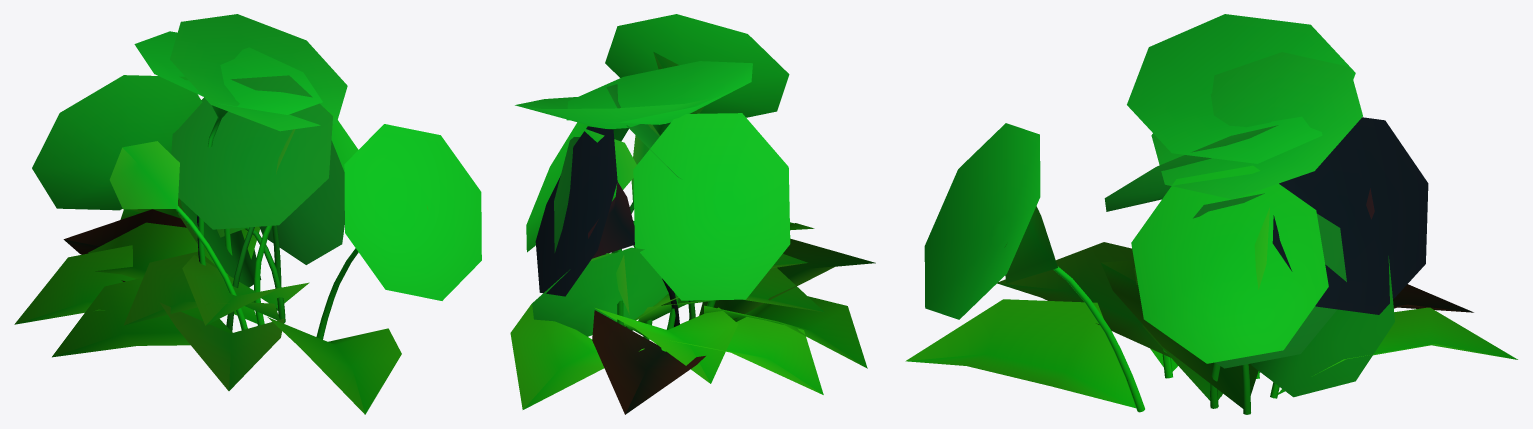
File: mv_FlowerD.fbx
3 views of the same model, side by side, from view 1: azimuth 30°, elevation 25°; view 2: azimuth 150°, elevation 25°; view 3: azimuth 270°, elevation 25° (orthographic). The views are drawn at different scales.
Visible parts, largest first — view 1: FlowerD_LOD0; view 2: FlowerD_LOD0; view 3: FlowerD_LOD0.
Boxes of the visible parts, x1,y1,x2,y2 form: FlowerD_LOD0: (14,14,481,414); FlowerD_LOD0: (510,14,875,414); FlowerD_LOD0: (905,14,1517,414).
Size of what is drawn, in the model's own units: 19.37 by 14.95 by 25.67.
